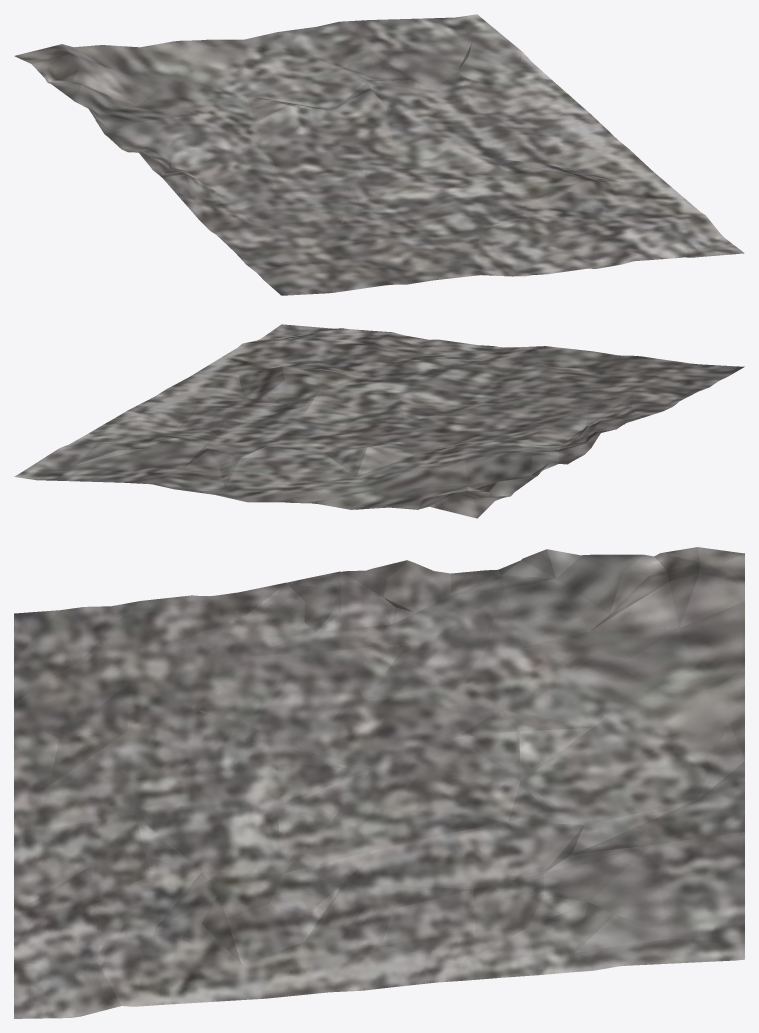
The picture shows the model from 3 angles, top to bottom: view 1: azimuth 30°, elevation 25°; view 2: azimuth 150°, elevation 25°; view 3: azimuth 270°, elevation 25°; orthographic projection. The views are drawn at different scales.
Size of the model in its own units: 0.8374 by 0.206 by 0.8374.
3 materials, 3 textured.
